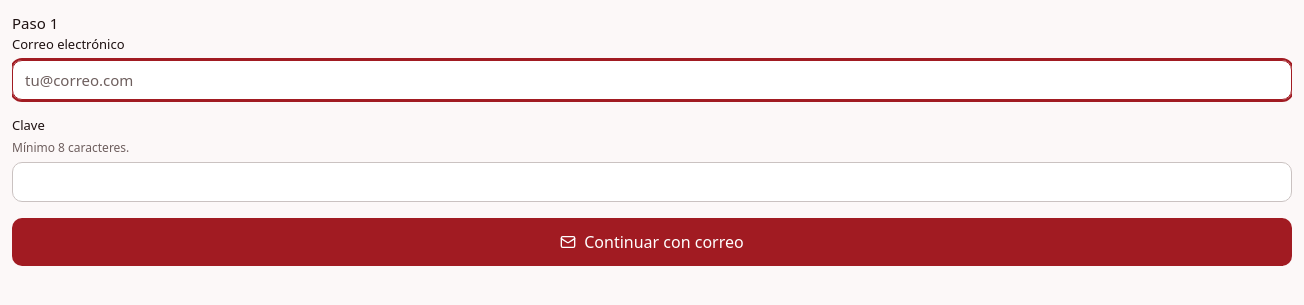
Test: FormularioRegistro › avisa en el primer paso si el correo ya tiene cuenta
Type "nicolas@correo.com" into the field labelled "Correo electrónico" at (652, 80), box [12,60,1292,100]
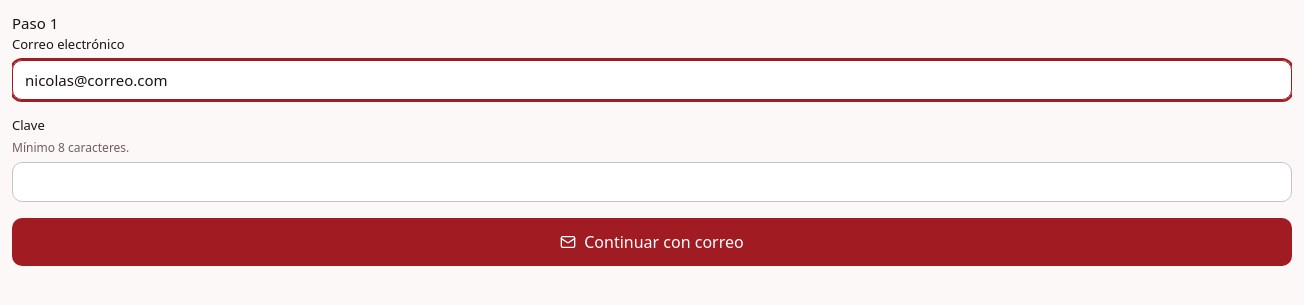
Type "12345678" into the password field labelled "Clave" at (652, 182), box [12,162,1292,202]
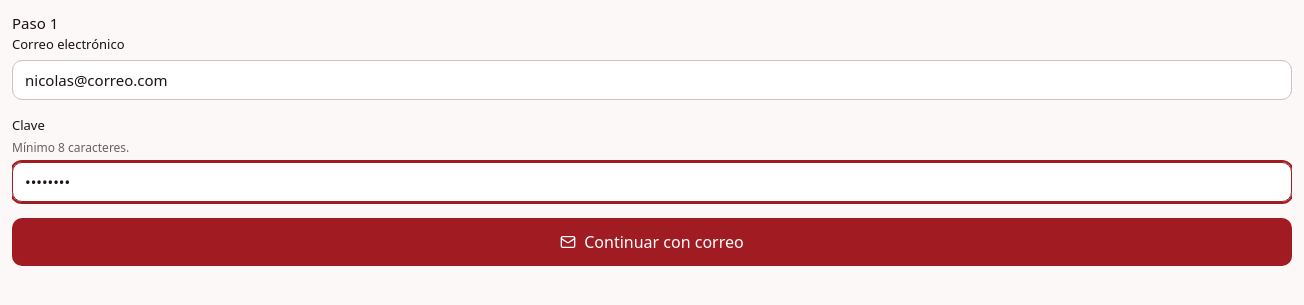
Click the button "Continuar con correo" at (652, 242), box [12,218,1292,266]
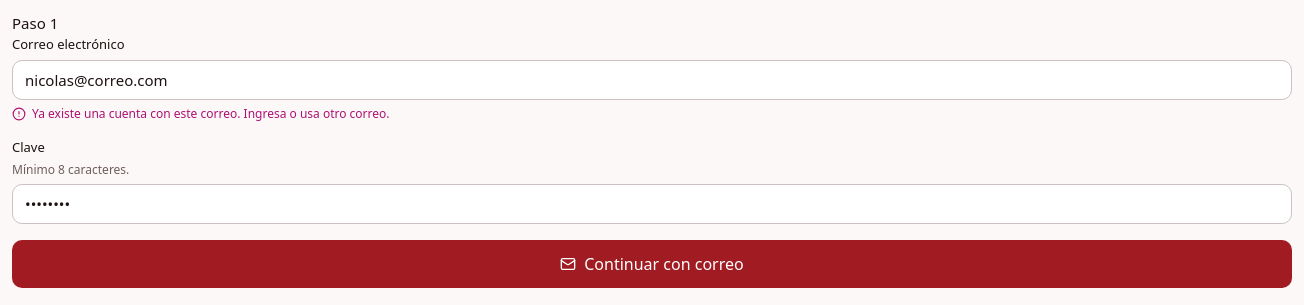
Expected: the text "Paso 1" is shown, [12,13,58,33]
Expected: the text "Ya existe una cuenta con este correo" is shown, [32,105,390,122]
